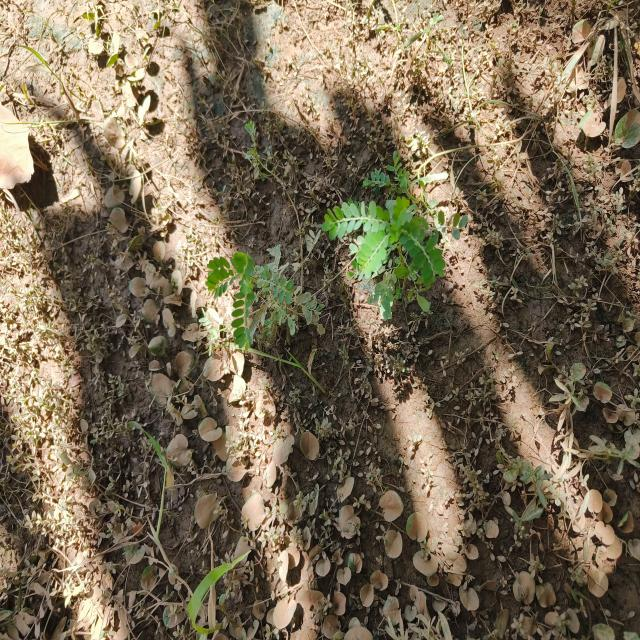weed: (318, 202, 447, 322), (213, 250, 316, 354)
